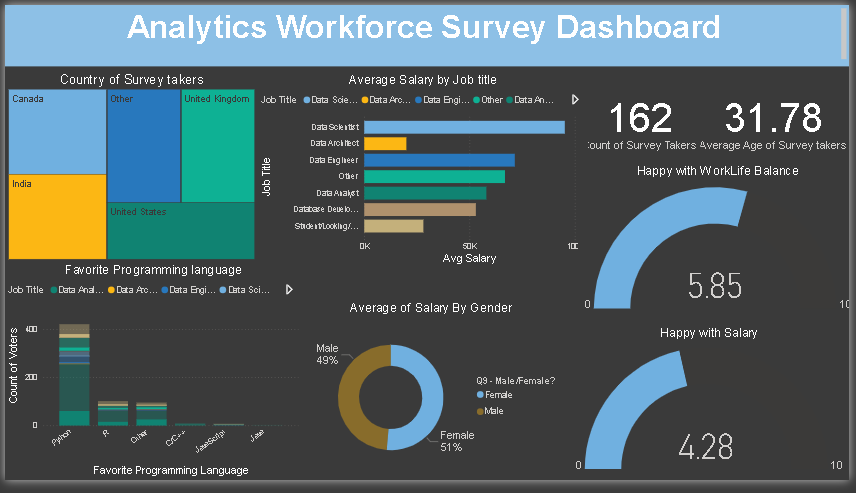

This screenshot's page, from the dashboard's own definition file:
{"tool":"powerbi","page":{"name":"Page 1","canvas":[1280,720],"ordinal":0},"visuals":[{"type":"textbox","box":[0,0,1280,93.3],"z":0},{"type":"card","fields":{"Values":["CountNonNull(Data Professional Survey.Unique ID)"]},"box":[854.5,100,213.6,150],"z":1000},{"type":"card","fields":{"Values":["Avg(Data Professional Survey.Q10 - Current Age)"]},"box":[1048.3,101.7,231.7,146.7],"z":2000},{"type":"barChart","title":"Average Salary by Job title","fields":{"Category":["Data Professional Survey.Q1 - Which Title Best Fits your Current Role?.1"],"Y":["Avg(Data Professional Survey.Avg Salary)"],"Series":["Data Professional Survey.Q1 - Which Title Best Fits your Current Role?.1"]},"box":[383.3,101.5,500,297],"z":3000},{"type":"columnChart","title":"Favorite Programming language","fields":{"Category":["Data Professional Survey.Q5 - Favorite Programming Language.1"],"Y":["CountNonNull(Data Professional Survey.Unique ID)"],"Series":["Data Professional Survey.Q1 - Which Title Best Fits your Current Role?.1"]},"box":[0,390,450,330],"z":4000},{"type":"treemap","title":"Country of Survey takers","fields":{"Group":["Data Professional Survey.Q11 - Which Country do you live in?.1"],"Values":["Count(Data Professional Survey.Q11 - Which Country do you live in?.1)"]},"box":[0,99.4,383.8,290.6],"z":5000},{"type":"gauge","title":"Happy with WorkLife Balance","fields":{"Y":["Avg(Data Professional Survey.Q6 - How Happy are you in your Current Position with the following? (Coworkers))"],"MinValue":["Min(Data Professional Survey.Q6 - How Happy are you in your Current Position with the following? (Coworkers))"],"MaxValue":["Max(Data Professional Survey.Q6 - How Happy are you in your Current Position with the following? (Coworkers))"]},"box":[868.6,240,424.3,240],"z":6000},{"type":"gauge","title":"Happy with Salary","fields":{"Y":["Avg(Data Professional Survey.Q6 - How Happy are you in your Current Position with the following? (Salary))"],"MinValue":["Min(Data Professional Survey.Q6 - How Happy are you in your Current Position with the following? (Salary))"],"MaxValue":["Max(Data Professional Survey.Q6 - How Happy are you in your Current Position with the following? (Salary))1"]},"box":[855,485,425,235],"z":7000},{"type":"donutChart","title":"Average of Salary By Gender","fields":{"Category":["Data Professional Survey.Q9 - Male/Female?"],"Y":["Avg(Data Professional Survey.Avg Salary)"]},"box":[450,446.7,391.7,273.3],"z":8000}]}

Visuals, with their boxes in screenshot pixels (x1, y1, x2, y2), scaled from the page's 1280x720 canvas onto the 856x493 screenshot:
textbox: {"x1": 0, "y1": 0, "x2": 855, "y2": 64}
card - CountNonNull(Data Professional Survey.Unique ID): {"x1": 571, "y1": 68, "x2": 714, "y2": 171}
card - Avg(Data Professional Survey.Q10 - Current Age): {"x1": 701, "y1": 70, "x2": 855, "y2": 170}
"Average Salary by Job title" barChart: {"x1": 256, "y1": 69, "x2": 591, "y2": 273}
"Favorite Programming language" columnChart: {"x1": 0, "y1": 267, "x2": 301, "y2": 492}
"Country of Survey takers" treemap: {"x1": 0, "y1": 68, "x2": 257, "y2": 267}
"Happy with WorkLife Balance" gauge: {"x1": 581, "y1": 164, "x2": 855, "y2": 329}
"Happy with Salary" gauge: {"x1": 572, "y1": 332, "x2": 855, "y2": 492}
"Average of Salary By Gender" donutChart: {"x1": 301, "y1": 306, "x2": 563, "y2": 492}
